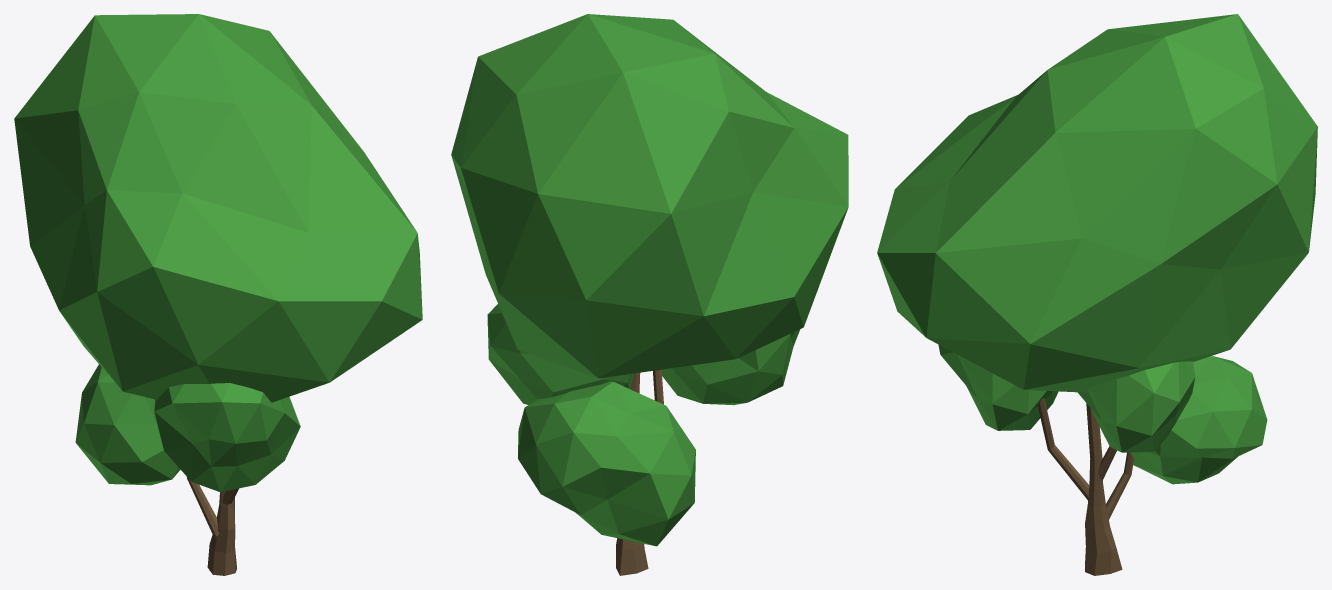
File: deciduous_two.glb
3 views of the same model, side by side, from view 1: azimuth 30°, elevation 25°; view 2: azimuth 150°, elevation 25°; view 3: azimuth 270°, elevation 25° (orthographic). The views are drawn at different scales.
Parts seen in each view (by area): view 1: LeafLobe.001, LeafLobe.002, LeafLobe.004, Trunk, Branch.003; view 2: LeafLobe.001, LeafLobe.004, LeafLobe.002, LeafLobe.003, Trunk; view 3: LeafLobe.001, LeafLobe.004, LeafLobe.003, LeafLobe.002, Trunk, Branch.002, Branch.003.
Part boxes in pixels (<box>): LeafLobe.001: <box>14,14,422,402</box>; LeafLobe.002: <box>154,383,300,492</box>; LeafLobe.004: <box>75,364,180,485</box>; Trunk: <box>207,491,236,575</box>; Branch.003: <box>187,477,219,540</box>; LeafLobe.001: <box>451,14,848,378</box>; LeafLobe.004: <box>518,381,695,546</box>; LeafLobe.002: <box>661,329,800,405</box>; LeafLobe.003: <box>487,304,633,404</box>; Trunk: <box>616,372,648,575</box>; LeafLobe.001: <box>877,14,1317,392</box>; LeafLobe.004: <box>1131,356,1267,484</box>; LeafLobe.003: <box>1078,361,1195,452</box>; LeafLobe.002: <box>938,344,1058,430</box>; Trunk: <box>1085,403,1122,575</box>; Branch.002: <box>1038,398,1089,500</box>; Branch.003: <box>1106,452,1134,519</box>.
Bounding box in the file's own units: 17.79 × 27.71 × 20.59.
